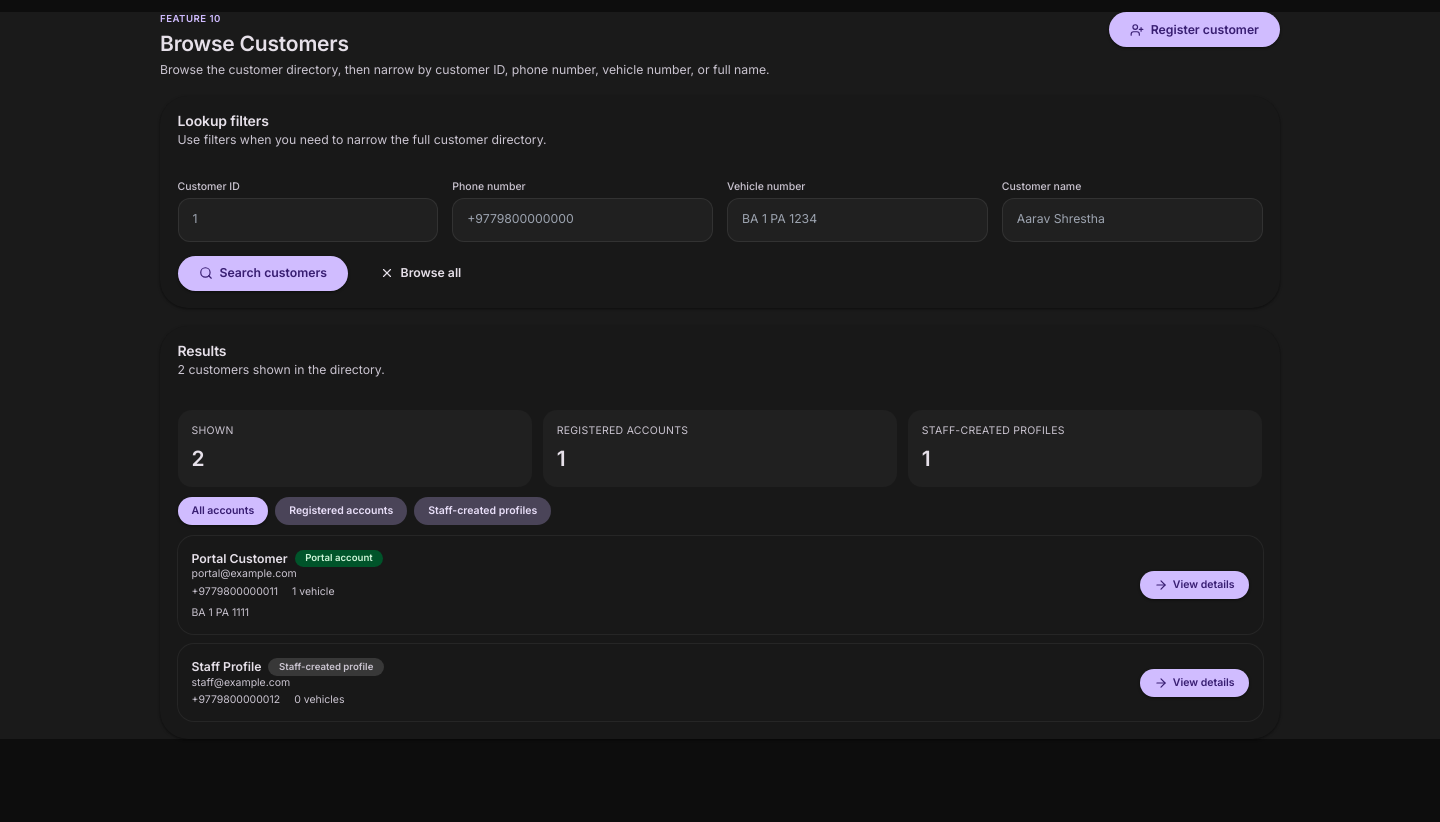
Test: CustomerSearchPage › shows account badges and filters to registered accounts
This screenshot has width=1440, height=822.
Expected: the heading "Browse Customers" is shown, [160,30,349,56]
Expected: the text "Portal account" is shown, [295,550,383,567]
Click the button "Registered accounts".
click(341, 511)  # box [275,497,407,525]
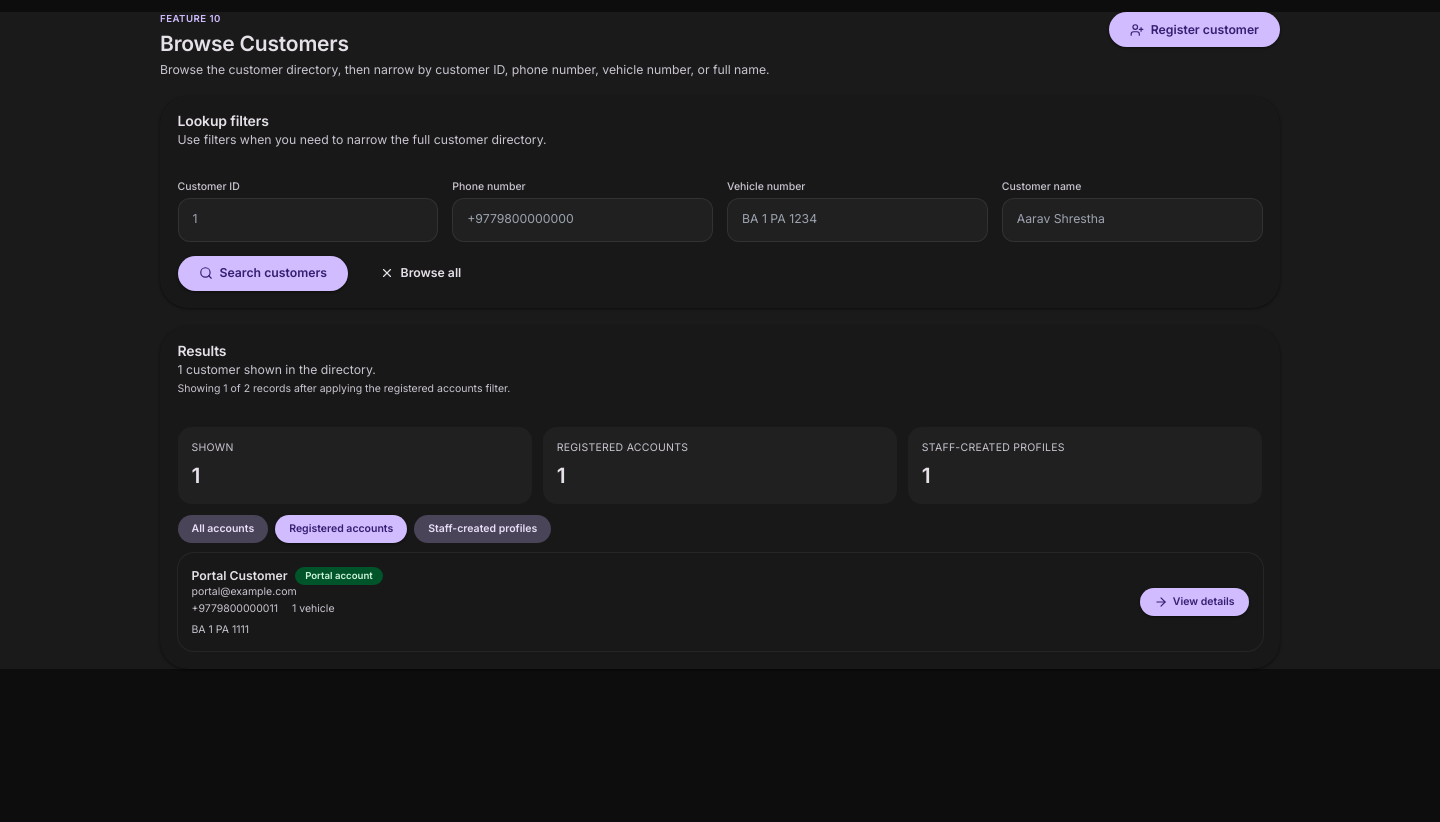
Expected: the text "Portal Customer" is shown, [192,567,288,584]
Result: the text "Staff Profile" is gone
